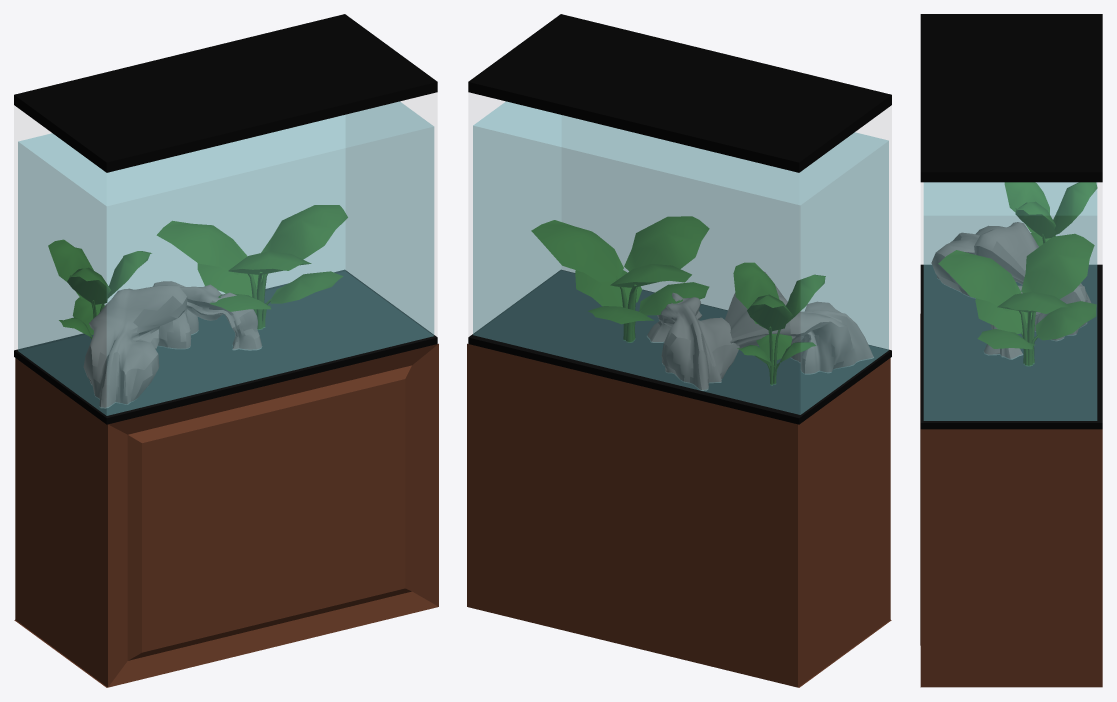
File: aquarium2.fbx
The picture shows the model from 3 angles, left to right: view 1: azimuth 30°, elevation 25°; view 2: azimuth 150°, elevation 25°; view 3: azimuth 270°, elevation 25°; orthographic projection.
Visible parts, largest first — view 1: tank_1; view 2: tank_1; view 3: tank_1.
Boxes of the visible parts, bbox=[...] form: tank_1: bbox=[14, 14, 438, 687]; tank_1: bbox=[467, 14, 891, 687]; tank_1: bbox=[920, 14, 1102, 687].
Size of the model in its own units: 38.41 by 58.04 by 18.62.
